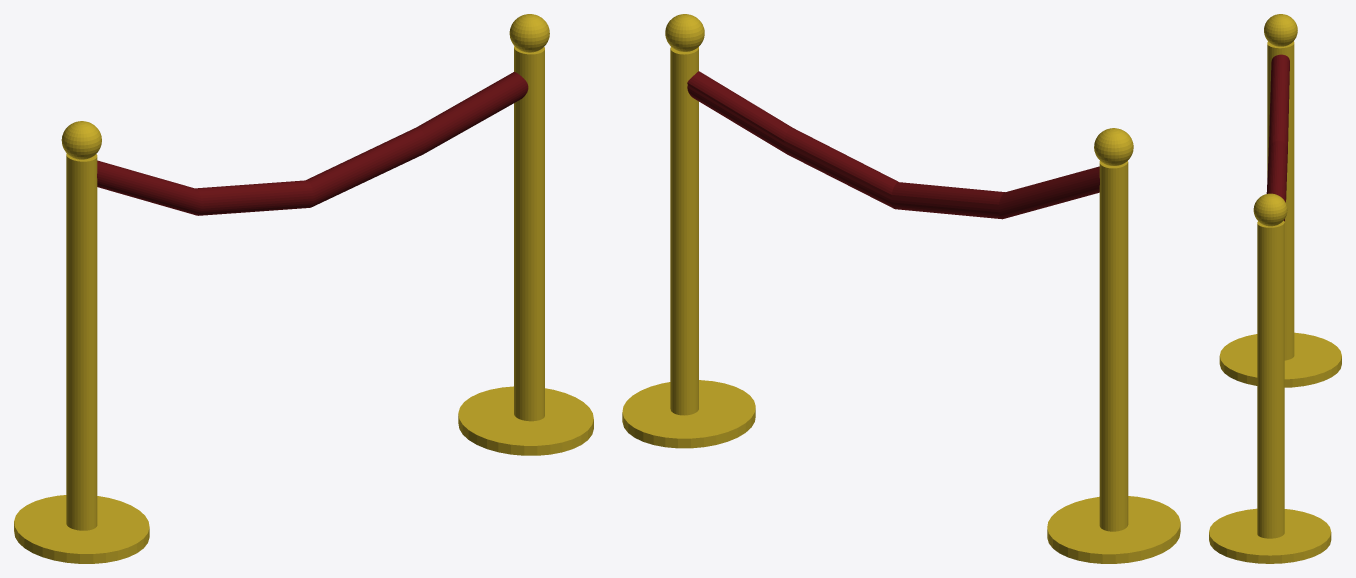
File: FancyMuseumRopes.fbx
3 views of the same model, side by side, from view 1: azimuth 30°, elevation 25°; view 2: azimuth 150°, elevation 25°; view 3: azimuth 270°, elevation 25° (orthographic). The views are drawn at different scales.
Visible parts, largest first — view 1: Cylinder.002, Cylinder, Cylinder.001, Cylinder.004, Cylinder.003, Sphere.001, Sphere; view 2: Cylinder.002, Cylinder, Cylinder.001, Cylinder.004, Cylinder.003, Sphere.001, Sphere; view 3: Cylinder.001, Cylinder.004, Cylinder.003, Cylinder, Cylinder.002, Sphere.001, Sphere.
Boxes of the visible parts, x1,y1,x2,y2 form: Cylinder.002: (97, 72, 528, 215); Cylinder: (66, 153, 97, 530); Cylinder.001: (514, 46, 544, 421); Cylinder.004: (458, 386, 593, 455); Cylinder.003: (14, 495, 149, 563); Sphere.001: (509, 14, 549, 52); Sphere: (61, 121, 101, 159); Cylinder.002: (687, 71, 1099, 219); Cylinder: (1099, 161, 1128, 531); Cylinder.001: (670, 47, 698, 415); Cylinder.004: (622, 380, 755, 448); Cylinder.003: (1047, 496, 1180, 563); Sphere.001: (665, 14, 704, 51); Sphere: (1094, 128, 1133, 165); Cylinder.001: (1257, 220, 1284, 538); Cylinder.004: (1209, 508, 1331, 563); Cylinder.003: (1219, 332, 1341, 387); Cylinder: (1267, 41, 1294, 360); Cylinder.002: (1266, 54, 1289, 221); Sphere.001: (1253, 193, 1287, 226); Sphere: (1264, 14, 1297, 46).
Size of the model in its own units: 325 by 233 by 79.86.
